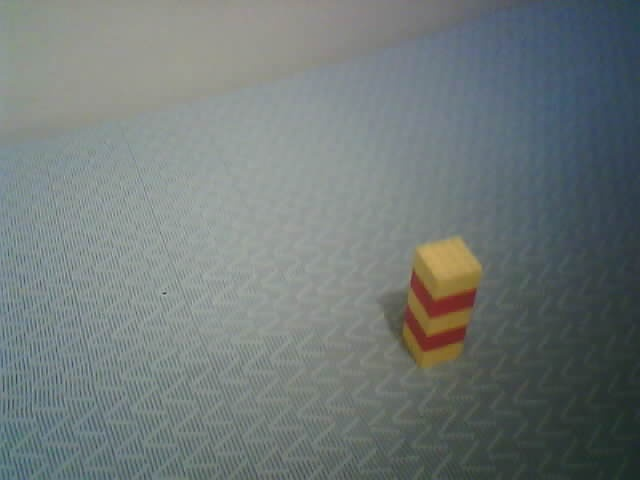lego: (401, 235, 483, 371)
